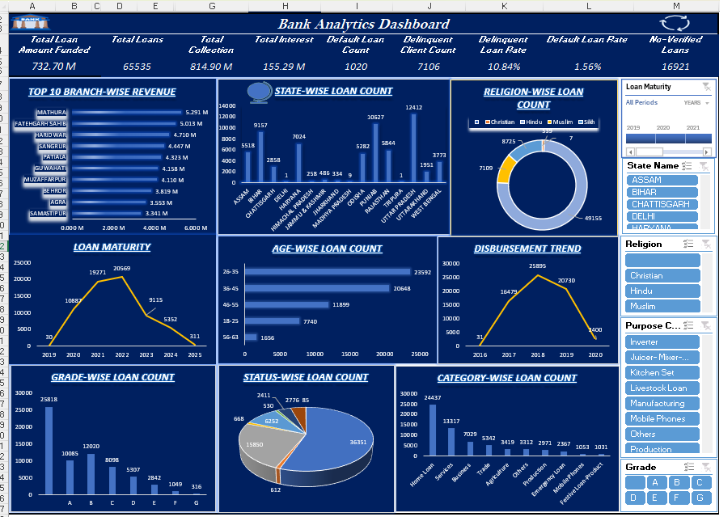

The dashboard page shown, as its layout file describes it:
{"tool":"tableau","page":{"name":"Portfolio & Risk Analysis","canvas":[1400,850],"ordinal":1},"visuals":[{"type":"text","box":[5,5,1208,68]},{"type":"dashboard-object","box":[1214,6,180,85]},{"type":"worksheet","title":"Grade-wise Loan","mark":"Automatic","rows":["Grade"],"cols":["Funded Amount"],"box":[5,73,356,352]},{"type":"worksheet","title":"Product-group Wise Loan","mark":"Automatic","rows":["Purpose Category"],"cols":["Funded Amount"],"box":[361,73,464,352]},{"type":"worksheet","title":"Loan status Distribution","mark":"Automatic","rows":["Loan Status"],"cols":["Funded Amount"],"box":[825,73,388,352]},{"type":"filter","title":"Loan status Distribution","param":"[federated.09y1vra0zha2pl1blh3vb0k0p8sw].[none:Disbursement Date (Years):nk]","box":[1214,91,180,175]},{"type":"filter","title":"Loan status Distribution","param":"[federated.09y1vra0zha2pl1blh3vb0k0p8sw].[none:Branch Name:nk]","box":[1214,266,180,91]},{"type":"worksheet","title":"Age-Group wise Loan","mark":"Automatic","rows":["Funded Amount"],"cols":["Age"],"box":[5,425,461,299]},{"type":"worksheet","title":"Loan Maturity","mark":"Pie","rows":["Calculation_1302948261715969","Calculation_1302948261761027"],"box":[466,425,429,299]},{"type":"worksheet","title":"Religion-Wise Loan","mark":"Automatic","rows":["Calculation_1384311150243840"],"cols":["Religion"],"box":[895,425,500,299]},{"type":"worksheet","title":"KPI 5","mark":"Automatic","box":[5,724,257,121]},{"type":"worksheet","title":"KPI 6","mark":"Automatic","box":[262,724,273,121]},{"type":"worksheet","title":"KPI 7","mark":"Automatic","box":[535,724,297,121]},{"type":"worksheet","title":"KPI 8","mark":"Automatic","box":[832,724,290,121]},{"type":"worksheet","title":"KPI 9","mark":"Automatic","box":[1122,724,273,121]}]}

Visuals, with their boxes on the page's 1400x850 design canvas (x1, y1, x2, y2). These are canvas units, not pixel positions in the 720x517 screenshot, which may show the page scaled, cropped or inside an application window:
text: <box>5,5,1213,73</box>
dashboard-object: <box>1214,6,1394,91</box>
"Grade-wise Loan" worksheet: <box>5,73,361,425</box>
"Product-group Wise Loan" worksheet: <box>361,73,825,425</box>
"Loan status Distribution" worksheet: <box>825,73,1213,425</box>
"Loan status Distribution" filter: <box>1214,91,1394,266</box>
"Loan status Distribution" filter: <box>1214,266,1394,357</box>
"Age-Group wise Loan" worksheet: <box>5,425,466,724</box>
"Loan Maturity" worksheet (Pie marks): <box>466,425,895,724</box>
"Religion-Wise Loan" worksheet: <box>895,425,1395,724</box>
"KPI 5" worksheet: <box>5,724,262,845</box>
"KPI 6" worksheet: <box>262,724,535,845</box>
"KPI 7" worksheet: <box>535,724,832,845</box>
"KPI 8" worksheet: <box>832,724,1122,845</box>
"KPI 9" worksheet: <box>1122,724,1395,845</box>
